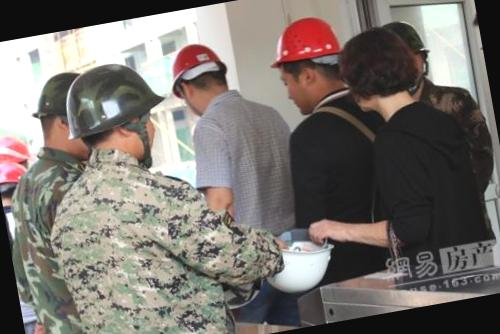no_helmet: (331, 22, 428, 126)
